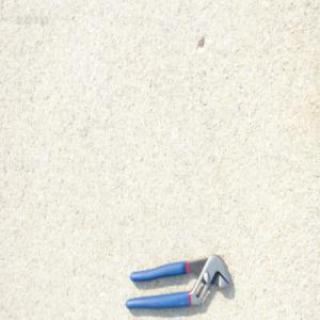Pliertrack_idkeyframe: (125, 251, 232, 306)
